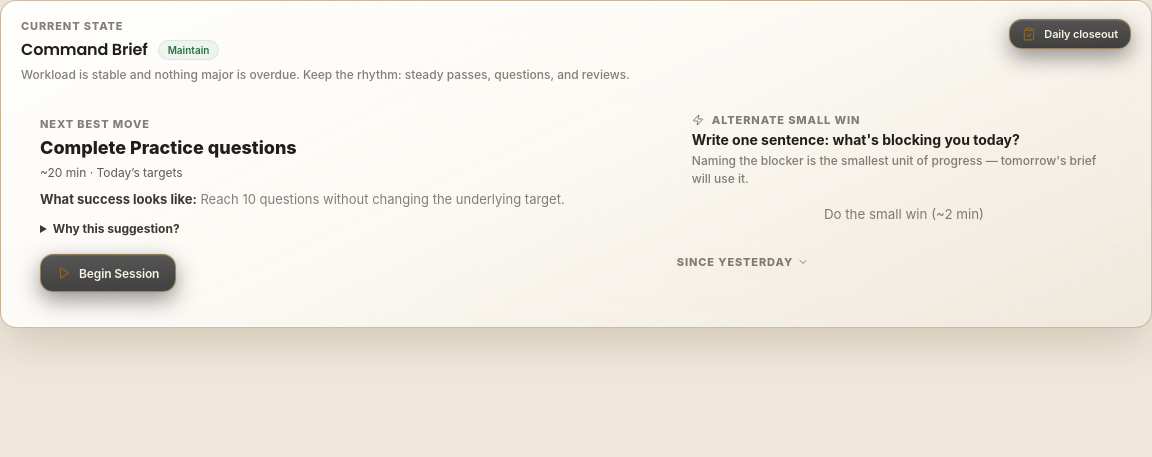
it: CommandBrief recommendation provenance › uses the canonical target selector and Daily Check-In context in the rendered brief
Expected: the text "Complete Practice questions" is shown, [40,137,297,158]
Expected: the text "~20 min · Today’s targets" is shown, [40,165,183,180]
Click the heading "Why this suggestion?". click: (110, 229)
box: [40,221,180,236]
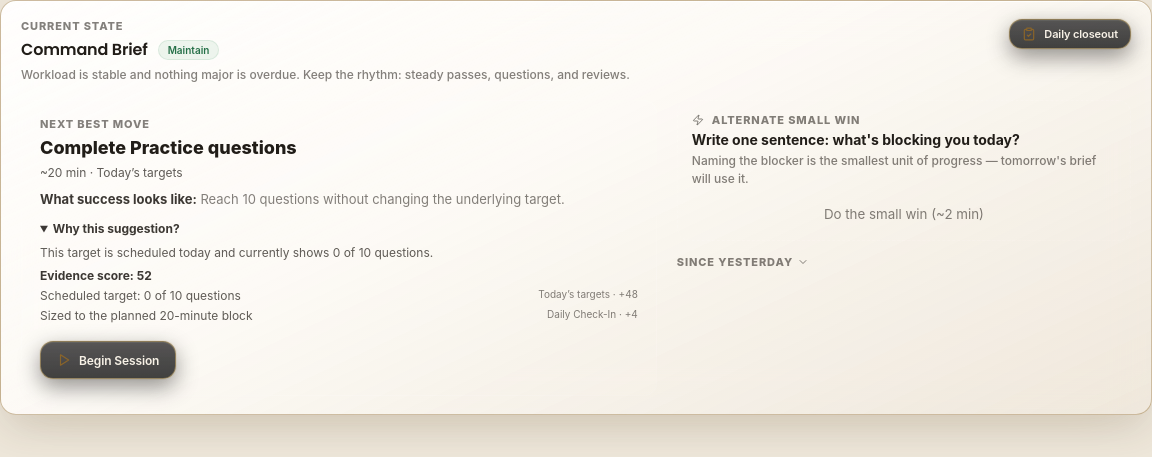
Result: the text "Scheduled target: 0 of 10 questions" is shown at [40,288,241,303]
Result: the text "Sized to the planned 20-minute block" is shown at [40,308,252,323]
